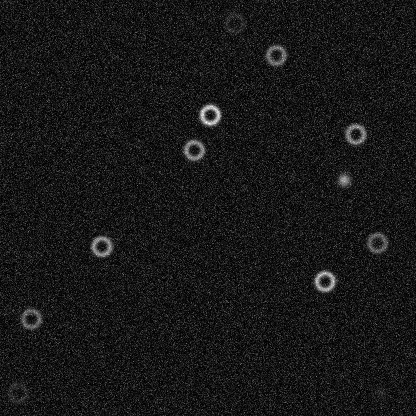Ring: (222, 10, 246, 34), (18, 306, 42, 330), (181, 137, 205, 161), (197, 102, 221, 126), (263, 43, 287, 67), (343, 122, 367, 146), (365, 230, 389, 254), (312, 269, 336, 293), (89, 234, 113, 258), (5, 381, 29, 405)
Spot: (335, 171, 351, 187), (372, 384, 388, 400)
